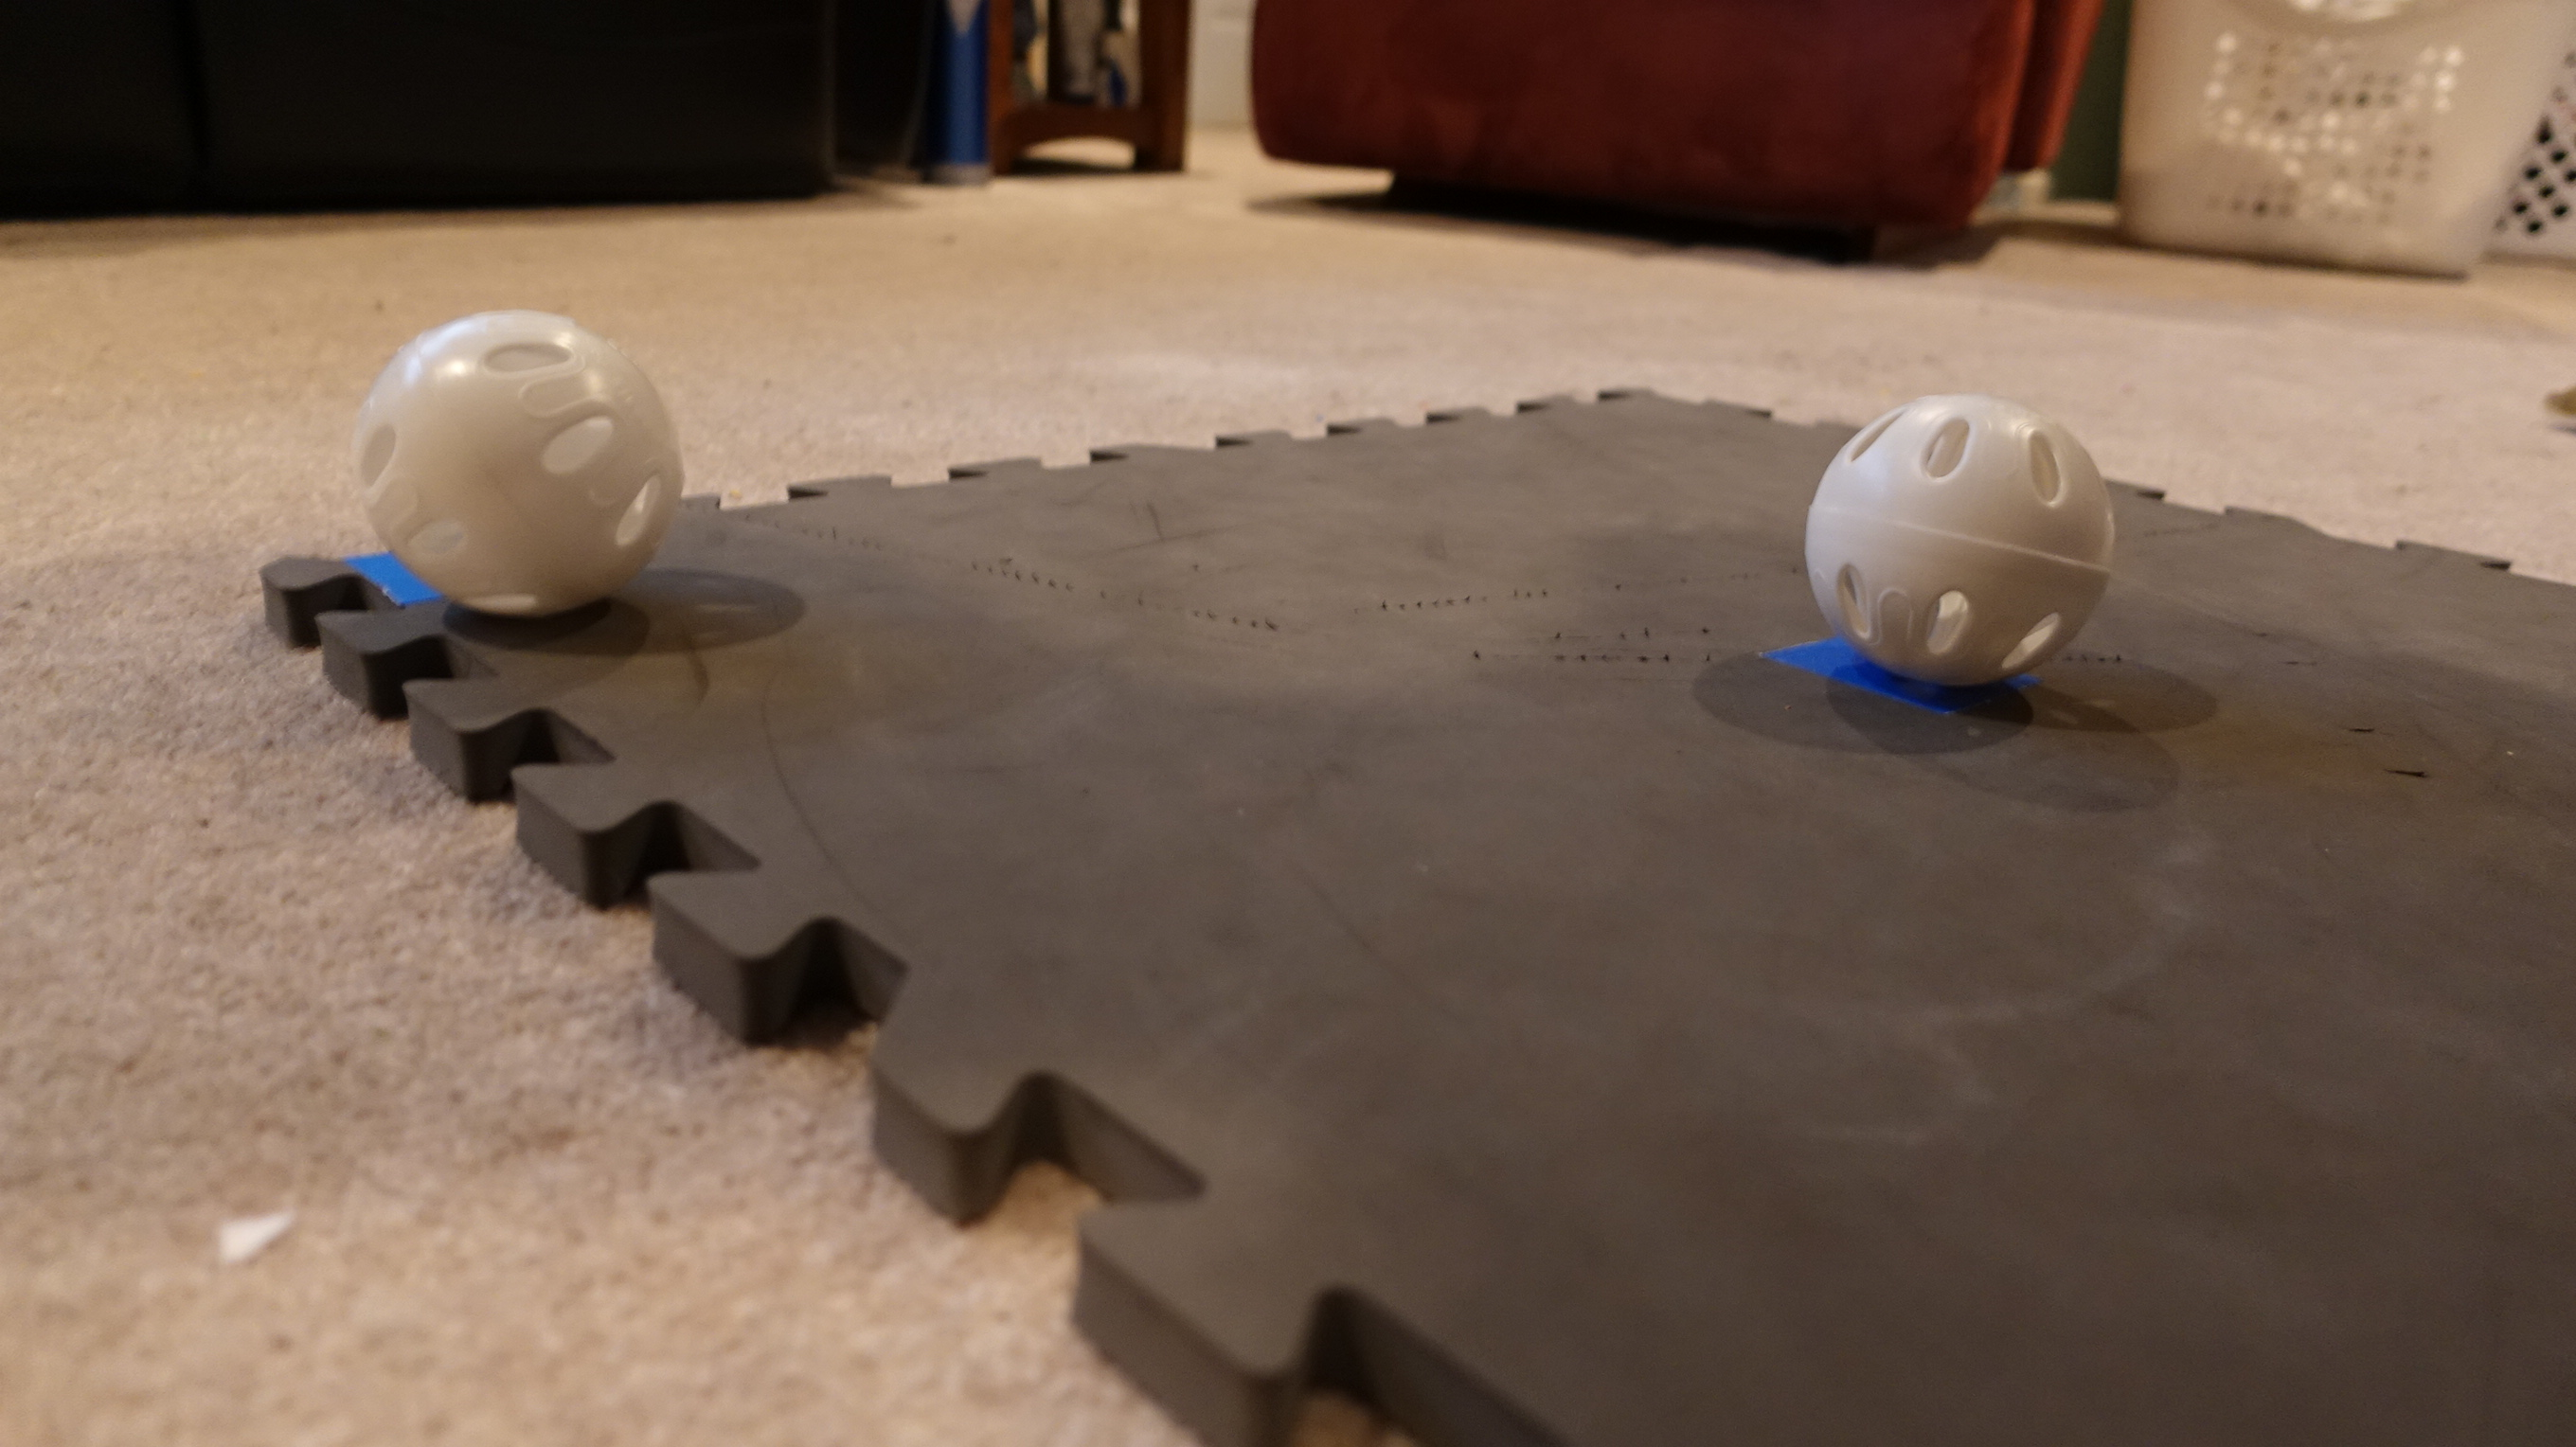silver: (347, 306, 694, 619), (1801, 386, 2120, 697)
